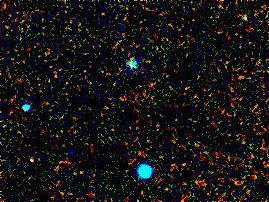star: (18, 145, 48, 175)
